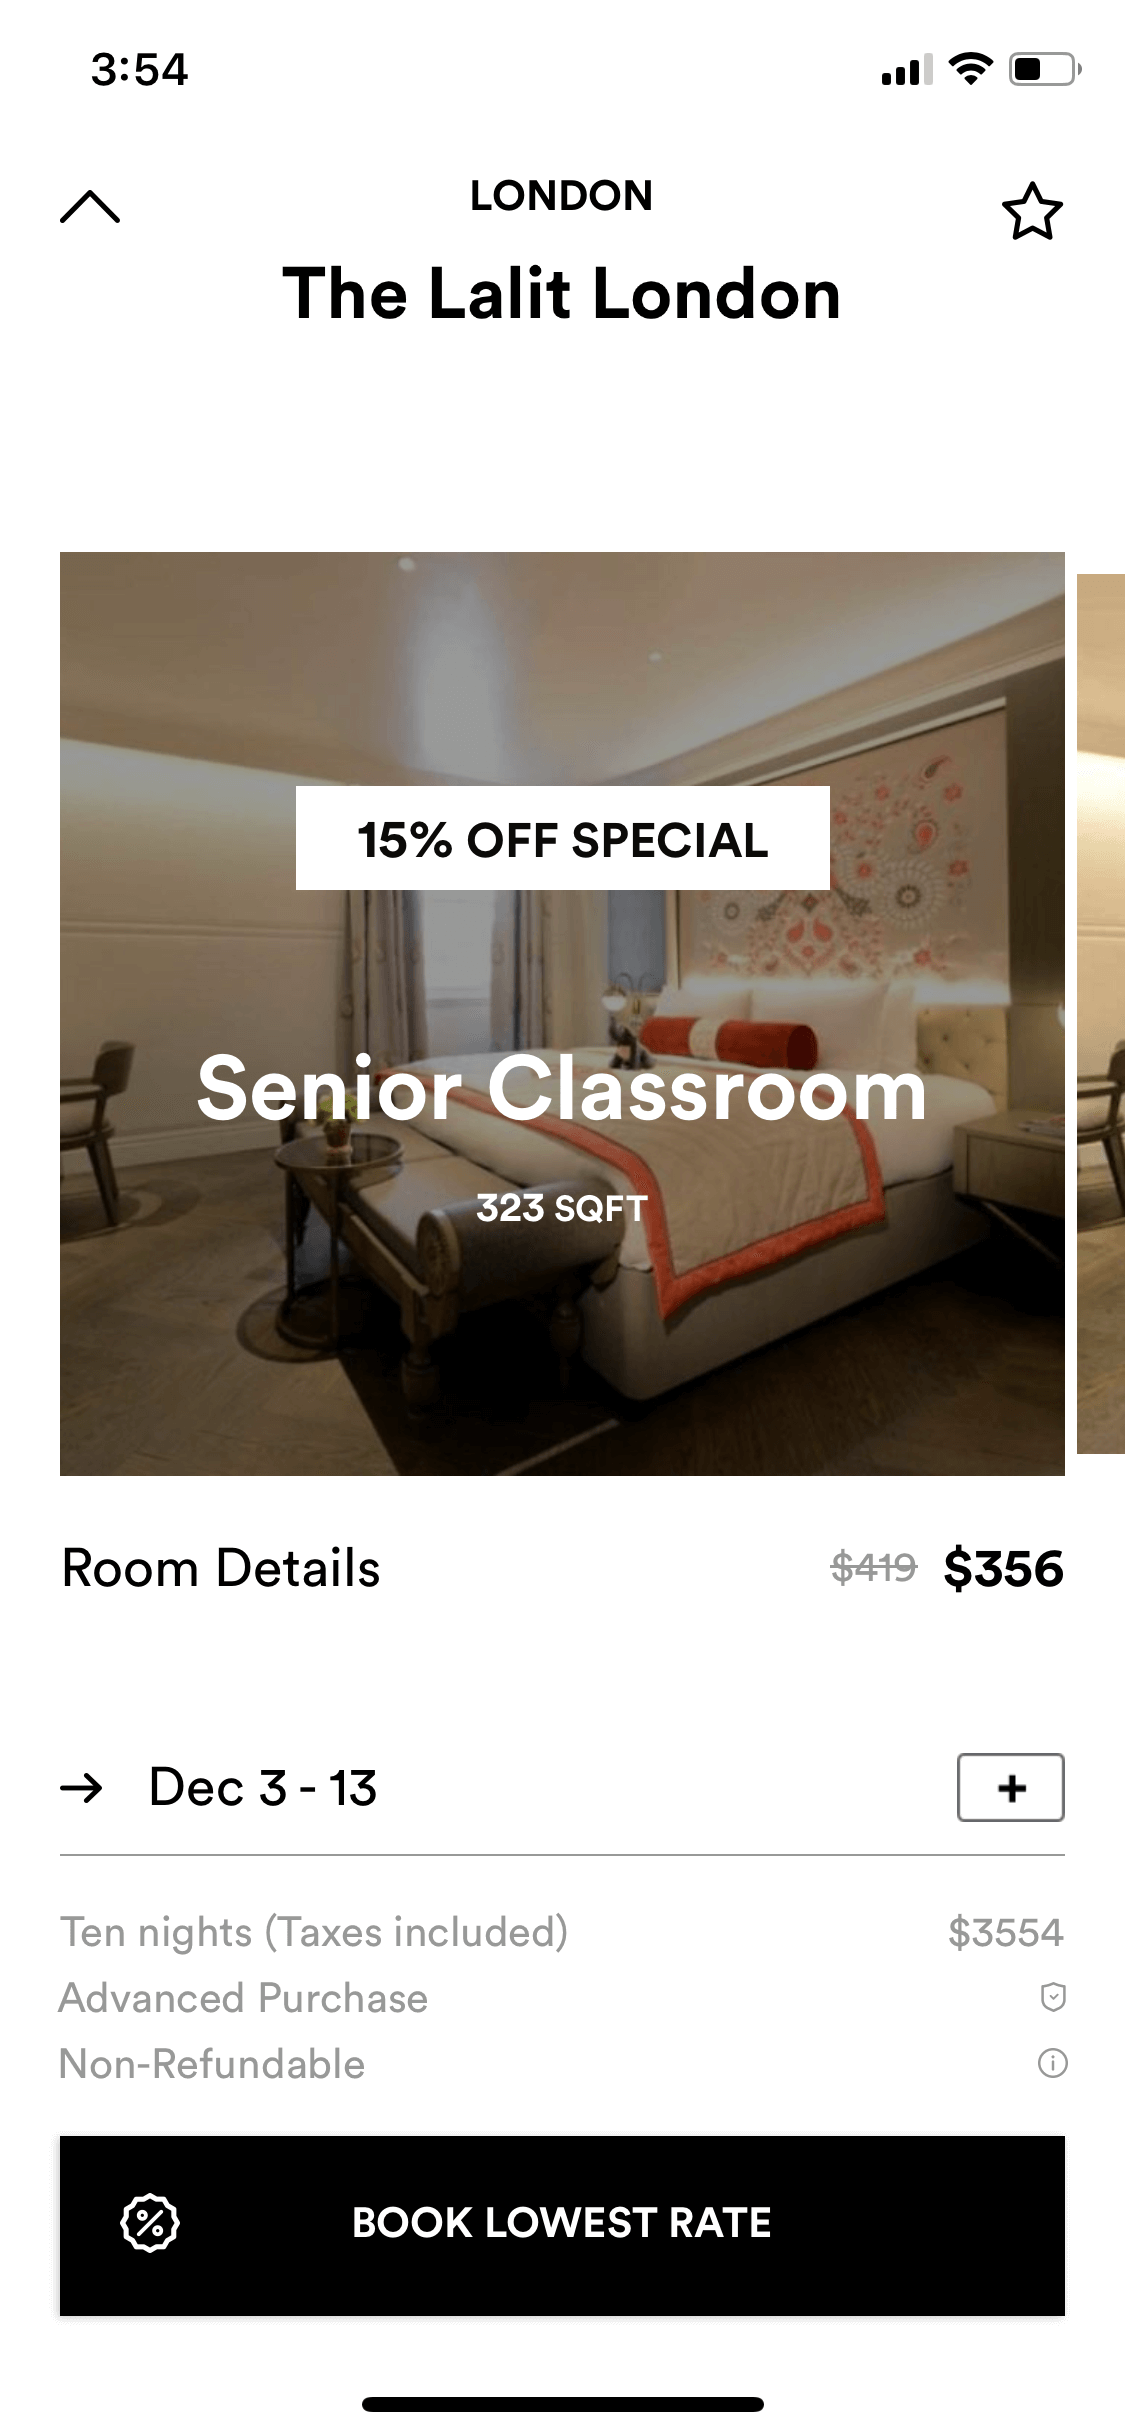Buttons: (44, 2113, 1083, 2351), (931, 1721, 1081, 1835), (28, 134, 155, 261), (974, 151, 1081, 270)
